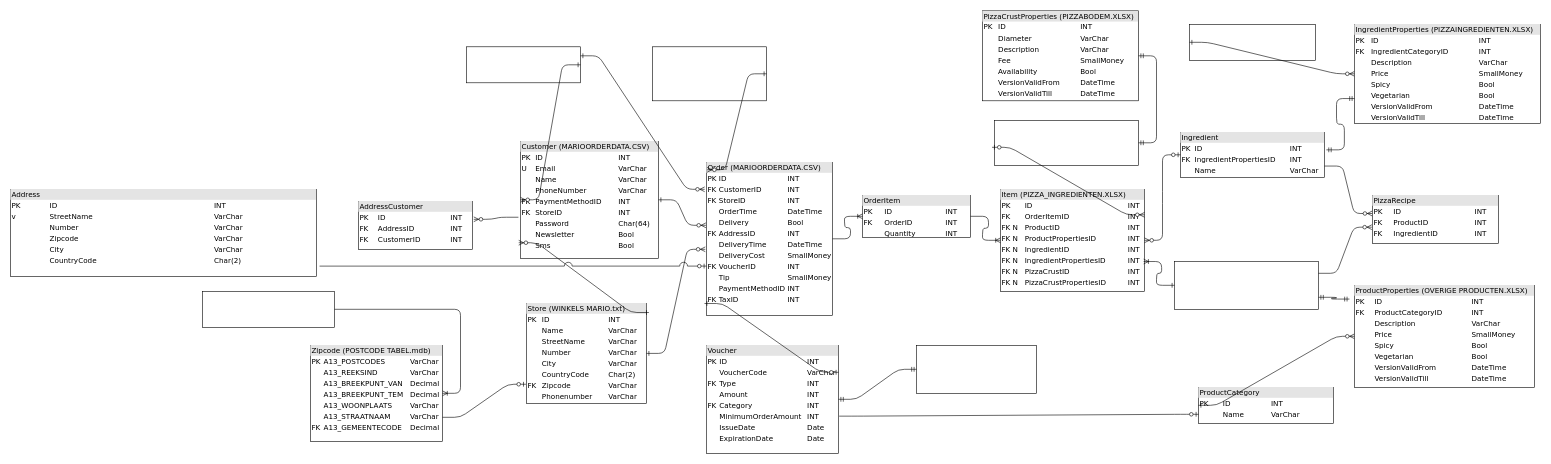
Image size: 1551x464. Some labels were removed from this diagram. Each missing label, with the centre of its shape:
"IngredientCategory PK ID INT Name VarChar" goes at (x=1252, y=42).
"Municipality (POSTCODE TABEL.mdb) PK N42_GEM_KODE Decimal N42_GEM_NAAM VarChar" goes at (x=268, y=309).
"PaymentMethod PK ID INT Name VarChar" goes at (x=523, y=64).
"PizzaCrust PK ID INT FK PizzaCrustPropertiesID INT Name VarChar" goes at (x=1066, y=142).
"Product PK ID INT FK ProductPropertiesID INT Name VarChar" goes at (x=1246, y=285).
"Tax PK ID INT Rate Decimal ValidFrom Date VaildTill Date" goes at (x=709, y=73).
"VoucherType PK ID INT Name VarChar Description VarChar" goes at (x=976, y=369).
